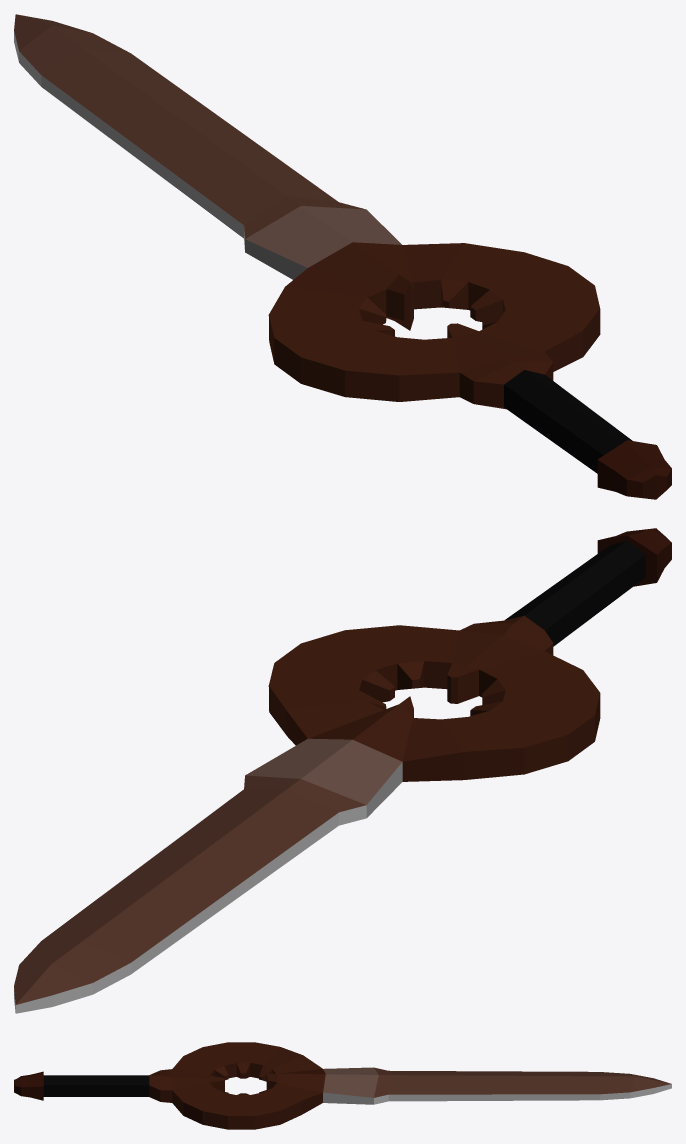
File: 3-Sword.fbx
3 renders of one model, top to bottom at view 1: azimuth 30°, elevation 25°; view 2: azimuth 150°, elevation 25°; view 3: azimuth 270°, elevation 25°, orthographic. The views are drawn at different scales.
Parts seen in each view (by area): view 1: Weapon3; view 2: Weapon3; view 3: Weapon3.
Part boxes in pixels (bbox=[...]): Weapon3: bbox=[14, 14, 671, 499]; Weapon3: bbox=[14, 528, 671, 1013]; Weapon3: bbox=[14, 1042, 671, 1129].
Size of the model in its own units: 178 by 30.18 by 670.
